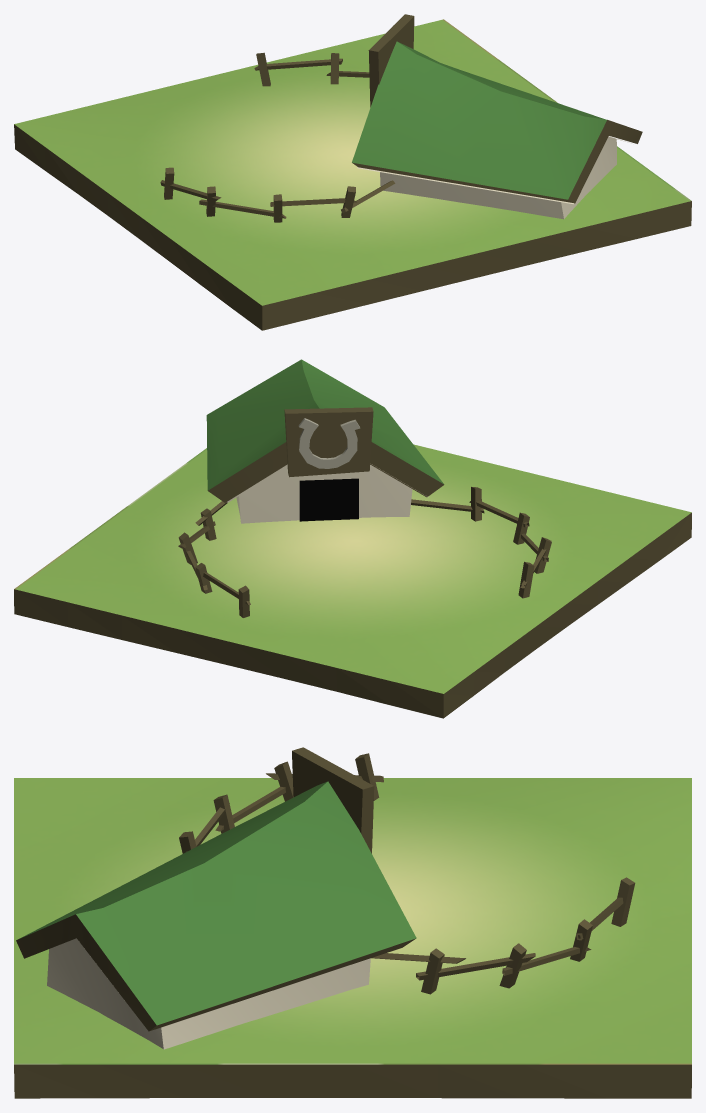
File: stable.FBX
The picture shows the model from 3 angles, top to bottom: view 1: azimuth 30°, elevation 25°; view 2: azimuth 150°, elevation 25°; view 3: azimuth 270°, elevation 25°; orthographic projection. The views are drawn at different scales.
Visible parts, largest first — view 1: Stable; view 2: Stable; view 3: Stable.
Part boxes in pixels (bbox=[...]): Stable: bbox=[14, 14, 691, 330]; Stable: bbox=[14, 359, 691, 718]; Stable: bbox=[14, 747, 691, 1098].
Size of the model in its own units: 101 by 34.05 by 100.
1 material, 1 textured.
